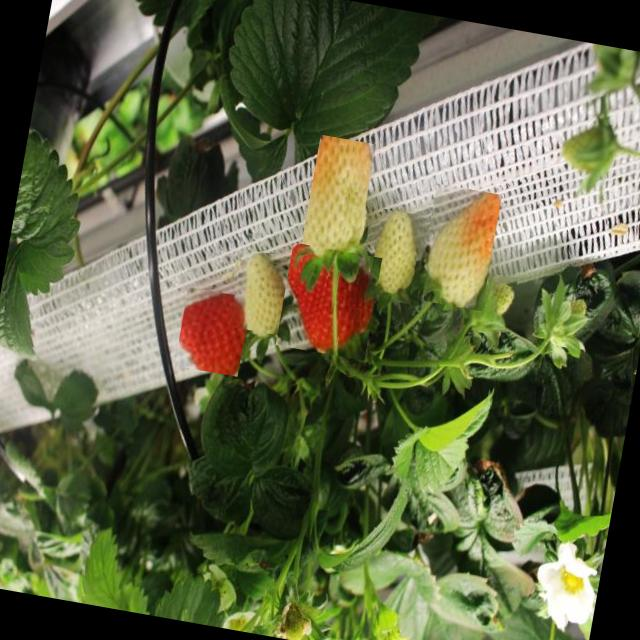ripe: (276, 242, 382, 360), (174, 286, 252, 376)
unripe: (416, 183, 502, 311), (298, 134, 376, 269), (228, 248, 296, 336), (367, 208, 424, 304), (482, 272, 518, 324)
